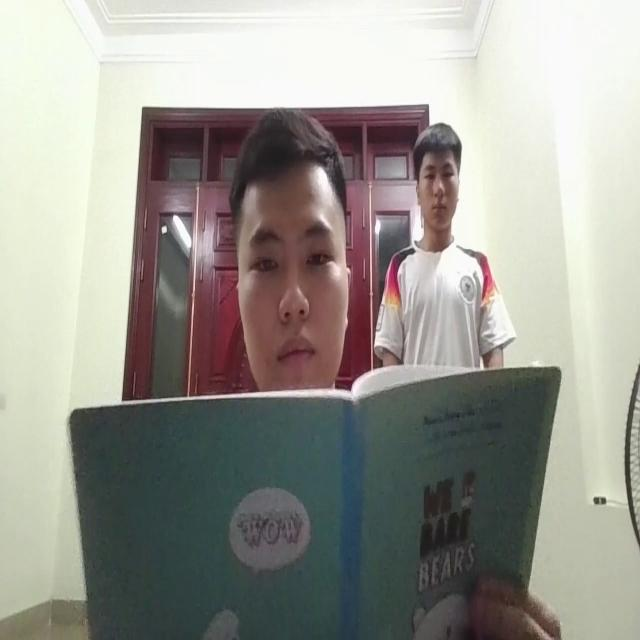book: (68, 364, 554, 640)
extra_person: (383, 127, 494, 379)
student: (222, 102, 351, 400)
